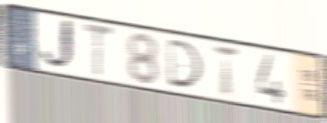4: (255, 52, 286, 107)
8: (124, 30, 161, 87)
D: (164, 37, 205, 90)
J: (38, 16, 77, 74)
T: (80, 20, 117, 80), (210, 42, 243, 100)
